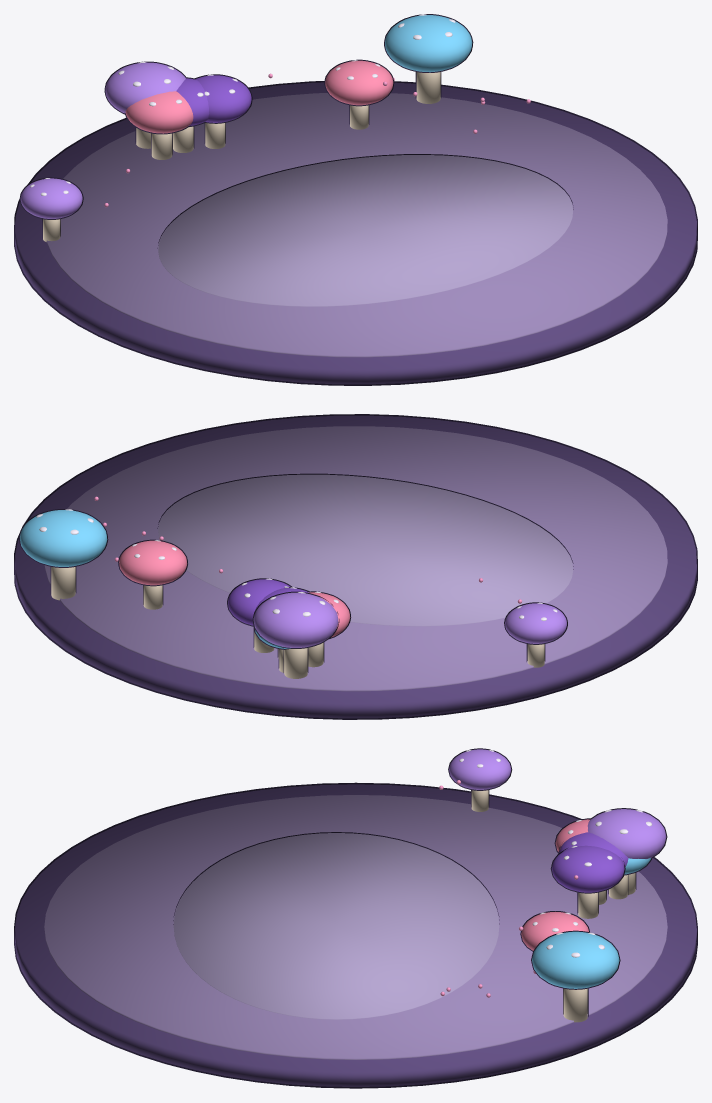
Rendered from hollow.glb.
The picture shows the model from 3 angles, top to bottom: view 1: azimuth 30°, elevation 25°; view 2: azimuth 150°, elevation 25°; view 3: azimuth 270°, elevation 25°; orthographic projection.
Parts seen in each view (by area): view 1: ground, floor, skirt, cap.003, cap.004, cap.001, cap.005, cap, cap.002, cap.006, stem.003; view 2: ground, floor, skirt, cap.003, cap.004, cap.001, cap, cap.002, stem.003, stem.004, cap.005, stem.001; view 3: ground, floor, skirt, cap.003, cap.004, cap.002, cap, cap.001, stem.003, cap.006, stem.002.
Boxes of the visible parts, box(x1,y1,x2,y2) form: ground: box(46, 93, 667, 357); floor: box(157, 154, 573, 306); skirt: box(14, 81, 697, 385); cap.003: box(384, 14, 473, 72); cap.004: box(104, 61, 186, 114); cap.001: box(324, 59, 394, 106); cap.005: box(124, 91, 193, 134); cap: box(19, 177, 83, 219); cap.002: box(195, 74, 252, 123); cap.006: box(176, 77, 209, 126); stem.003: box(415, 72, 441, 103); ground: box(44, 426, 667, 691); floor: box(157, 473, 573, 626); skirt: box(14, 414, 697, 719); cap.003: box(19, 509, 108, 567); cap.004: box(252, 591, 339, 648); cap.001: box(118, 539, 187, 586); cap: box(504, 602, 567, 644); cap.002: box(227, 578, 291, 626); stem.003: box(50, 567, 76, 600); stem.004: box(283, 648, 308, 678); cap.005: box(307, 591, 351, 638); stem.001: box(143, 585, 163, 609); ground: box(44, 795, 667, 1059); floor: box(173, 832, 499, 1019); skirt: box(14, 782, 697, 1088); cap.003: box(531, 930, 620, 989); cap.004: box(587, 808, 667, 858); cap.002: box(550, 845, 625, 893); cap: box(448, 748, 512, 790); cap.001: box(520, 911, 589, 951); stem.003: box(563, 988, 588, 1022); cap.006: box(558, 832, 628, 866); stem.002: box(577, 892, 598, 918).
Bounding box in the file's own units: 21.07 × 3.26 × 21.07.
